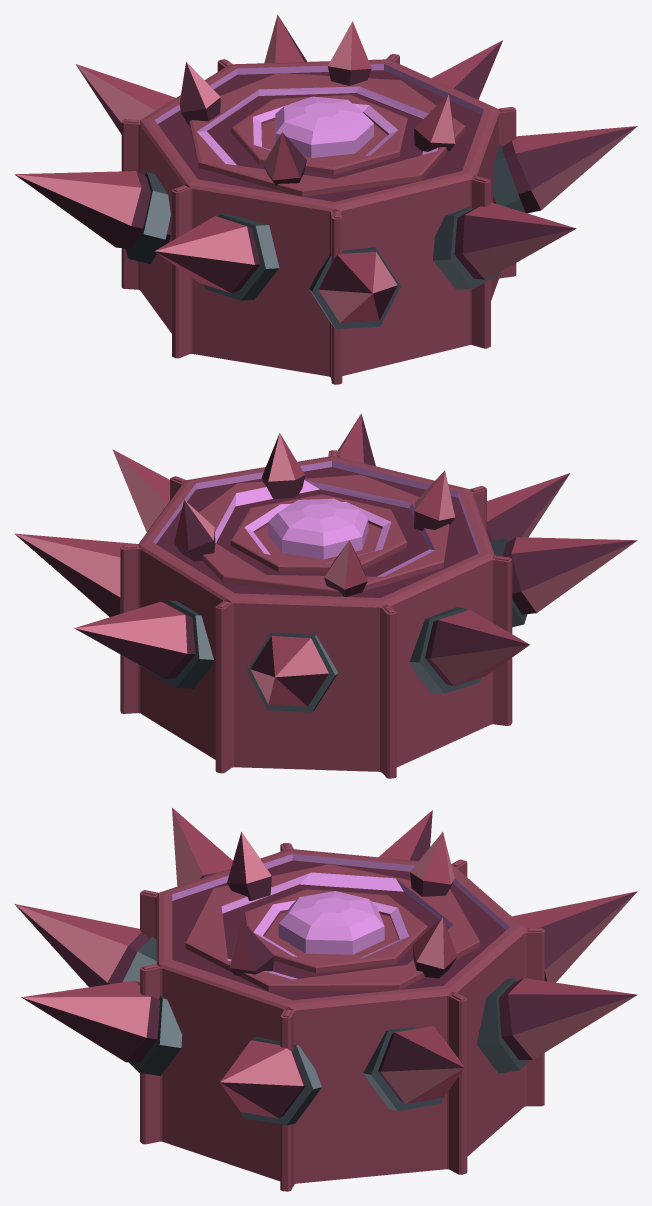
The model's file is reidite_spike.fbx.
The picture shows the model from 3 angles, top to bottom: view 1: azimuth 30°, elevation 25°; view 2: azimuth 150°, elevation 25°; view 3: azimuth 270°, elevation 25°; orthographic projection. The views are drawn at different scales.
Visible parts, largest first — view 1: reidite_spike_body; view 2: reidite_spike_body; view 3: reidite_spike_body.
Part boxes in pixels (x1=…): reidite_spike_body: x1=14, y1=14, x2=637, y2=384; reidite_spike_body: x1=14, y1=413, x2=637, y2=778; reidite_spike_body: x1=14, y1=808, x2=637, y2=1191.
Bounding box in the file's own units: 6.48 × 2.6 × 6.39.
1 material, 1 textured.
